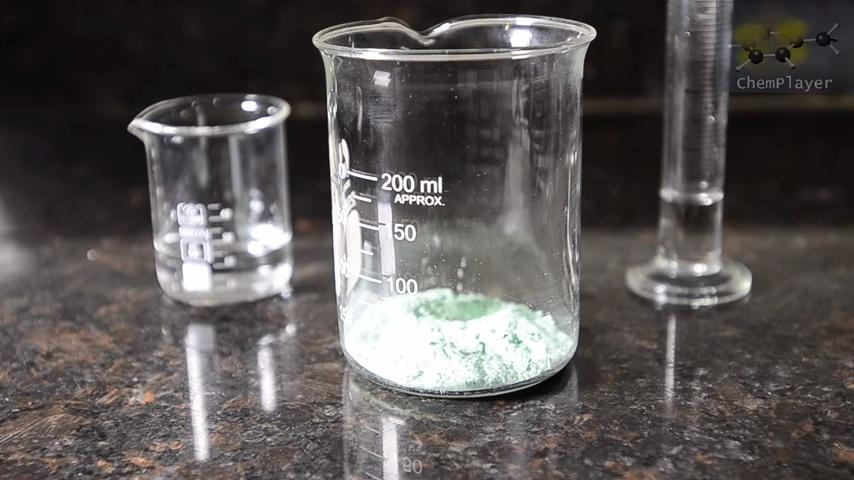Beaker: (304, 19, 597, 401), (128, 91, 295, 302)
Test tube: (650, 10, 752, 306)
